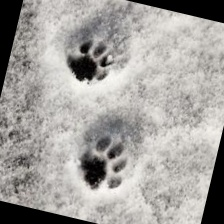cat: (70, 128, 137, 200), (58, 32, 120, 93)
